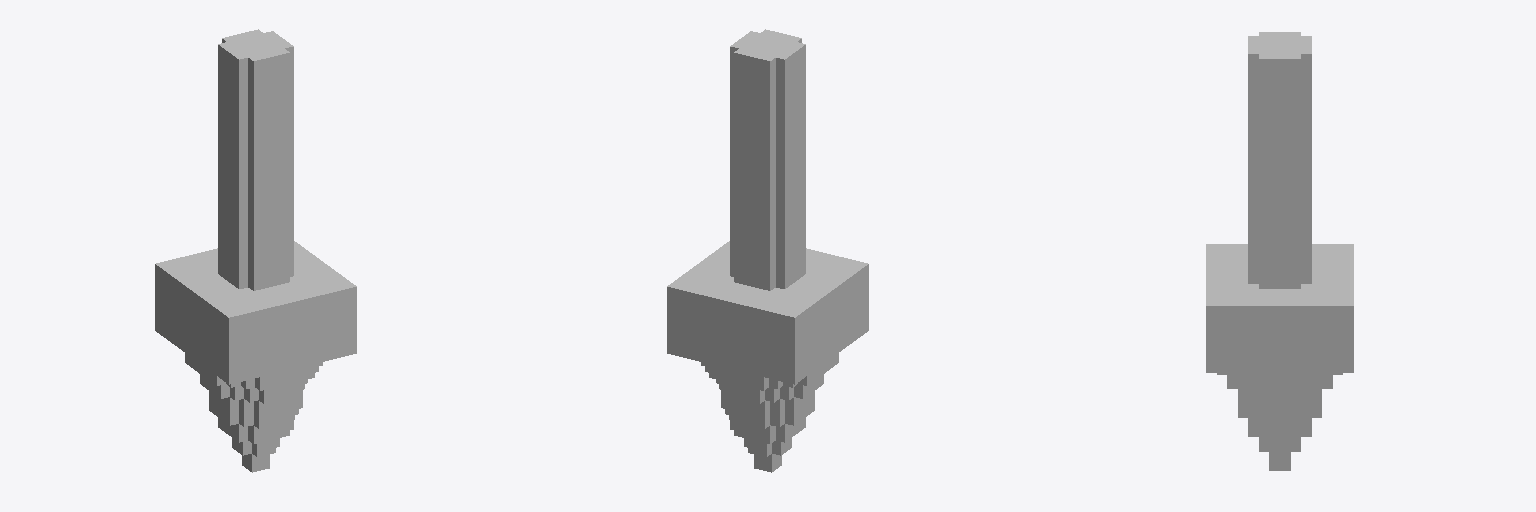
Rendered from drill-0.obj.
The picture shows the model from 3 angles: view 1: azimuth 30°, elevation 25°; view 2: azimuth 150°, elevation 25°; view 3: azimuth 270°, elevation 25°; orthographic projection.
Parts seen in each view (by area): view 1: object 1; view 2: object 1; view 3: object 1.
Part boxes in pixels (left/top/right/bottom): object 1: left=155, top=29, right=356, bottom=472; object 1: left=667, top=29, right=868, bottom=472; object 1: left=1206, top=32, right=1353, bottom=470.
Size of the model in its own units: 1.4 by 4.4 by 1.4.